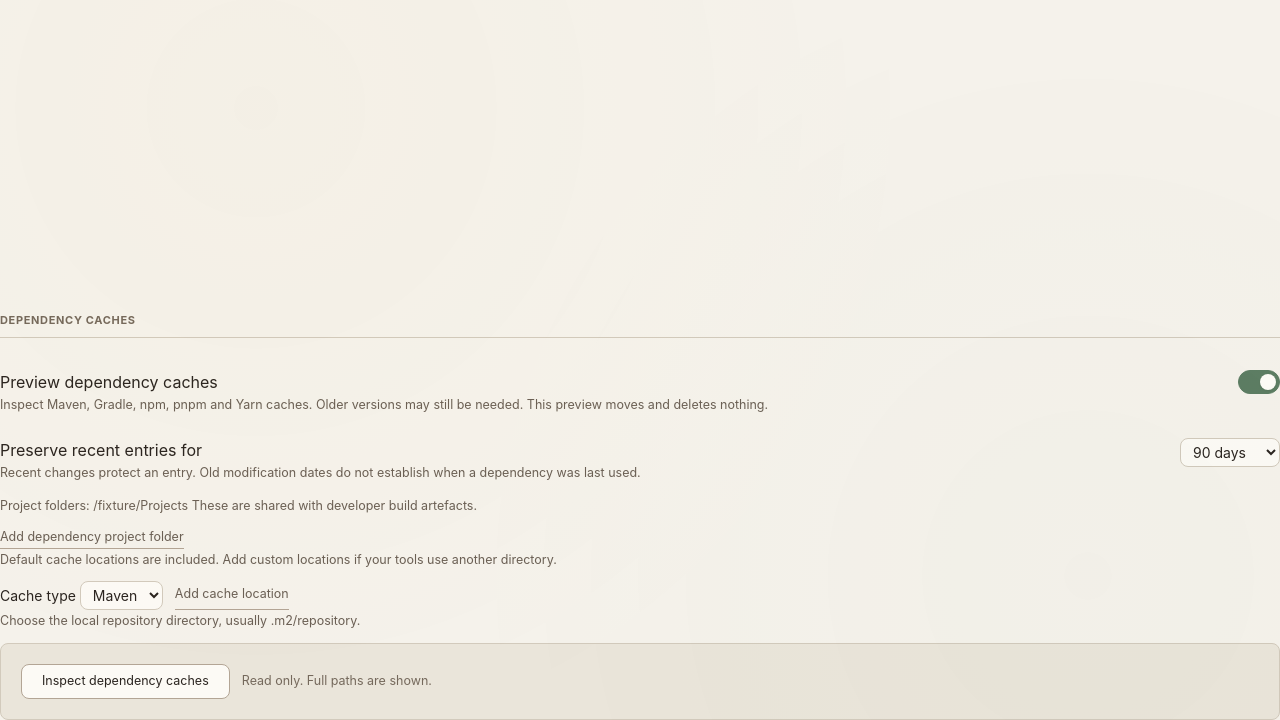
Scenario: supports cancellation and surfaces errors while keeping inspection read-only
(page scrolled)
Click the button "Inspect dependency caches".
click(125, 681)  # box [21,664,230,699]
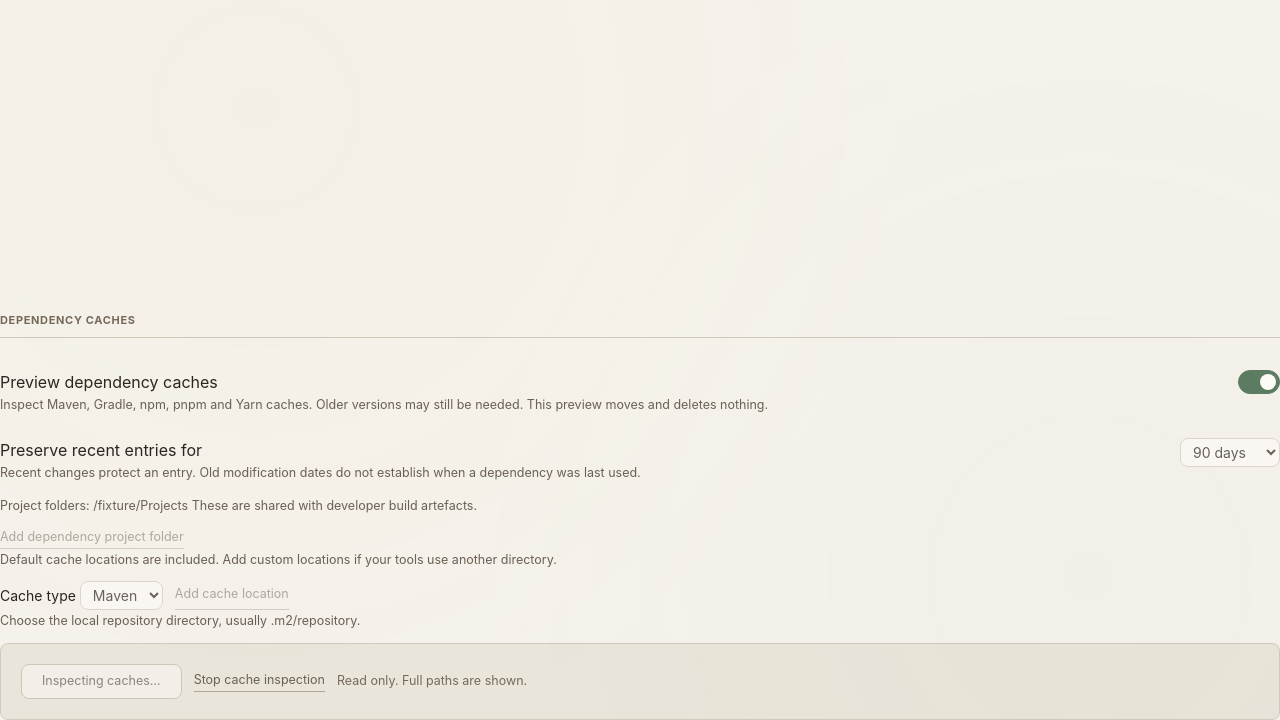
Now the button "Stop cache inspection" is shown
Click the button "Stop cache inspection".
click(259, 681)  # box [194,671,325,692]
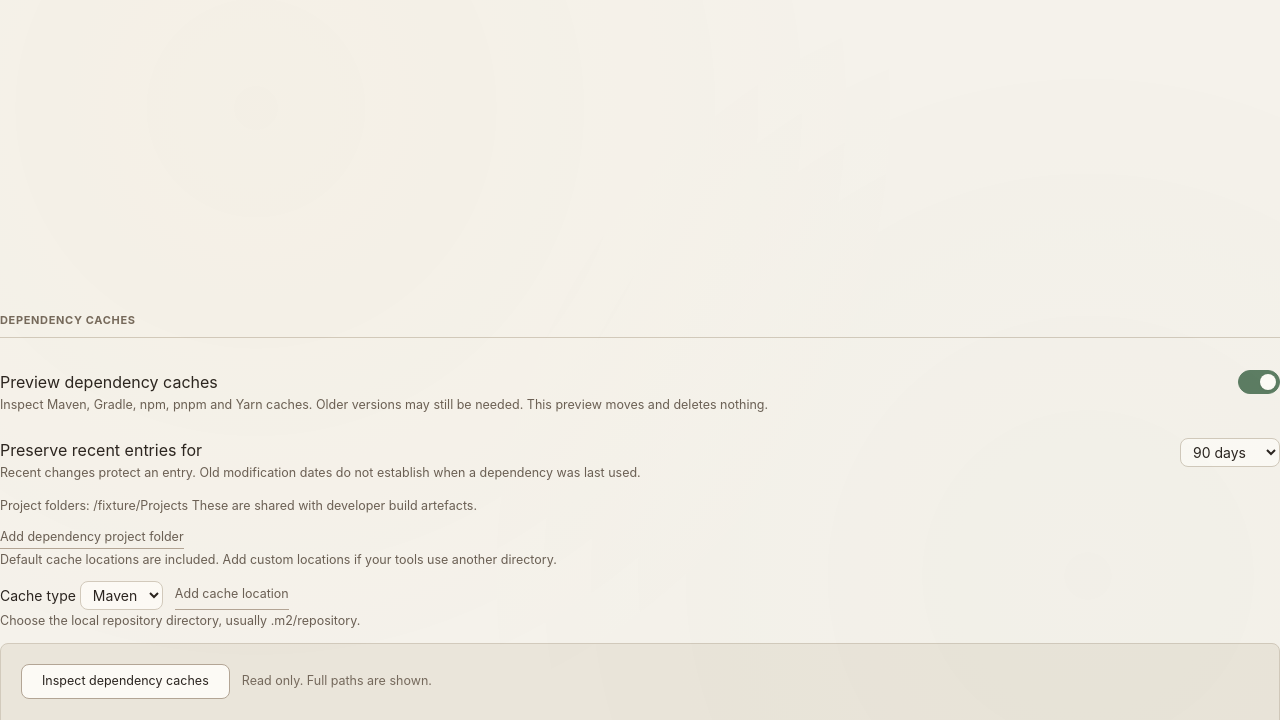
Click the button "Inspect dependency caches".
click(125, 681)  # box [21,664,230,699]
(page scrolled)
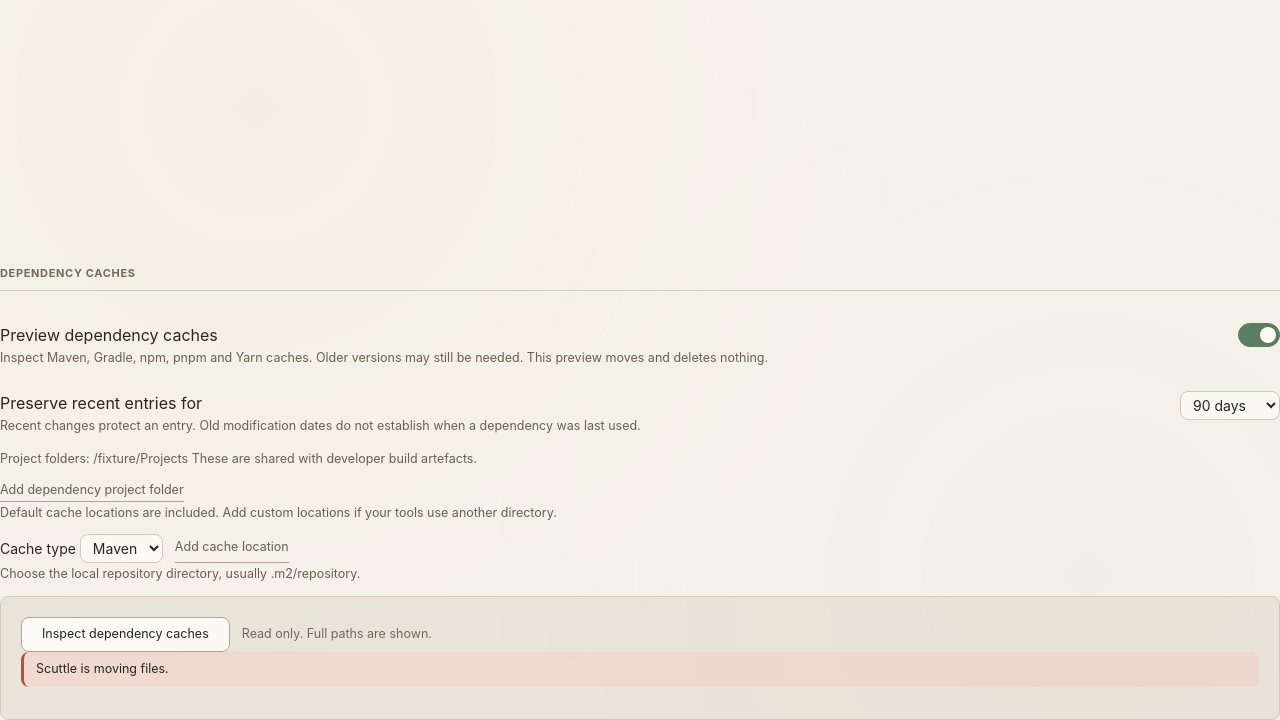
Now the message "Scuttle is moving files." is shown, box [21,652,1259,687]
